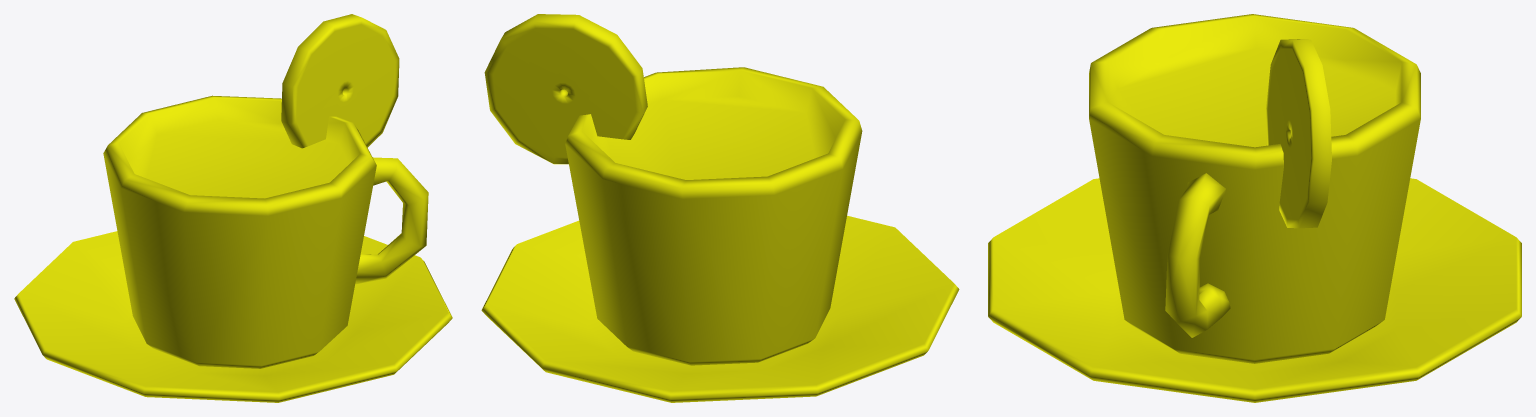
The picture shows the model from 3 angles, left to right: view 1: azimuth 30°, elevation 25°; view 2: azimuth 150°, elevation 25°; view 3: azimuth 270°, elevation 25°; orthographic projection. The views are drawn at different scales.
Visible parts, largest first — view 1: tea; view 2: tea; view 3: tea.
Part boxes in pixels (x1,y1,x2,y2): tea: (14, 14, 452, 402); tea: (481, 14, 959, 402); tea: (988, 14, 1521, 402).
Size of the model in its own units: 0.1312 by 0.0939 by 0.1248.
Materials: 1 (1 with a texture image).
